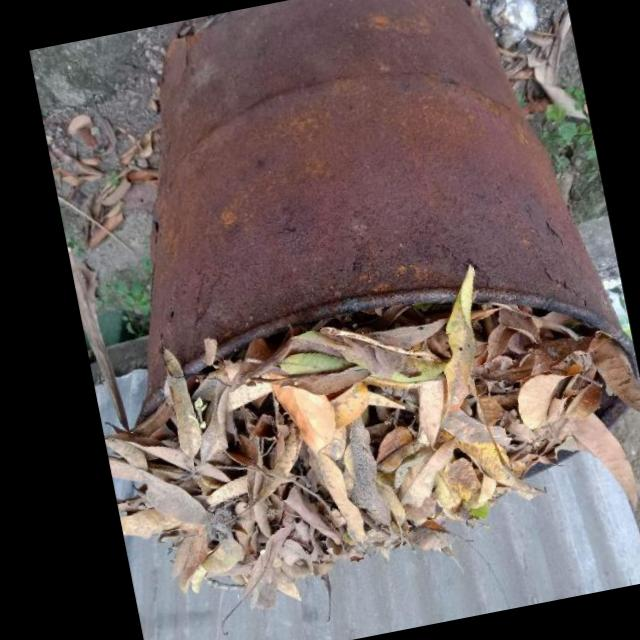la_cay: (213, 502, 343, 609), (344, 415, 409, 539), (569, 413, 639, 511), (328, 318, 448, 374), (518, 353, 601, 430), (472, 302, 557, 372), (307, 447, 366, 544), (454, 440, 547, 500), (443, 264, 476, 415), (163, 345, 201, 472), (271, 381, 336, 454), (394, 436, 456, 507), (588, 330, 640, 412), (138, 469, 213, 525), (435, 456, 495, 521), (250, 365, 372, 395), (223, 476, 285, 524), (200, 379, 231, 465), (330, 381, 370, 429), (418, 380, 445, 448), (270, 422, 298, 476), (208, 475, 248, 507)
